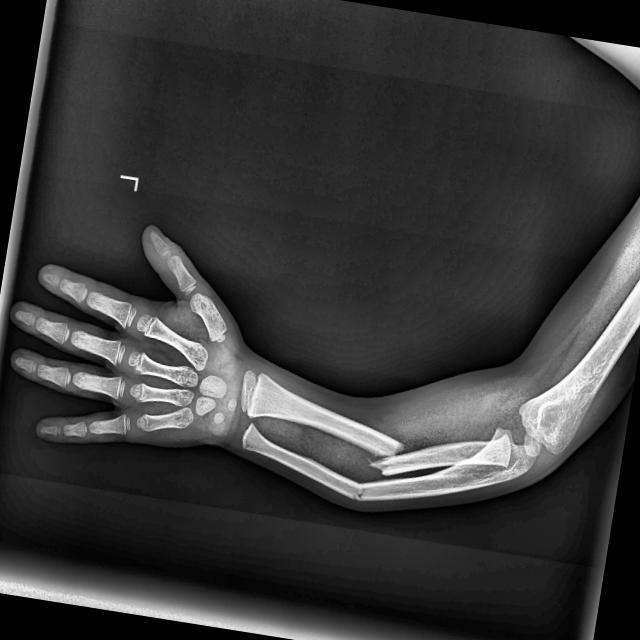Fracture: (358, 422, 412, 482), (342, 476, 372, 512)
